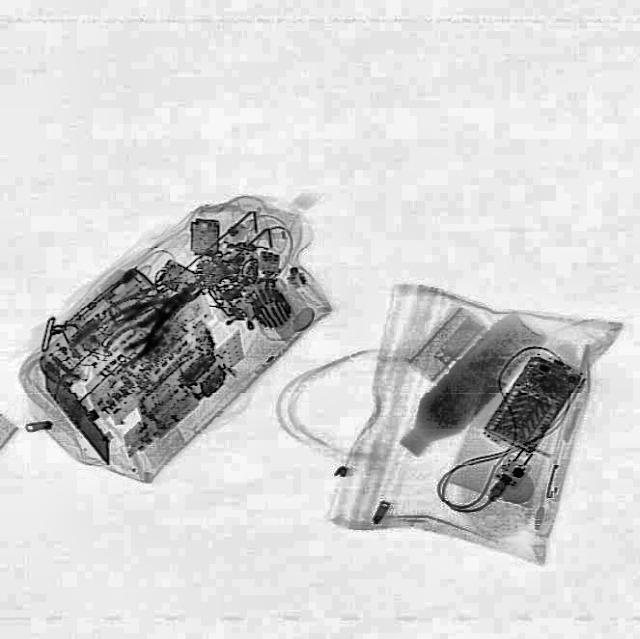Pliers: (105, 274, 212, 360)
